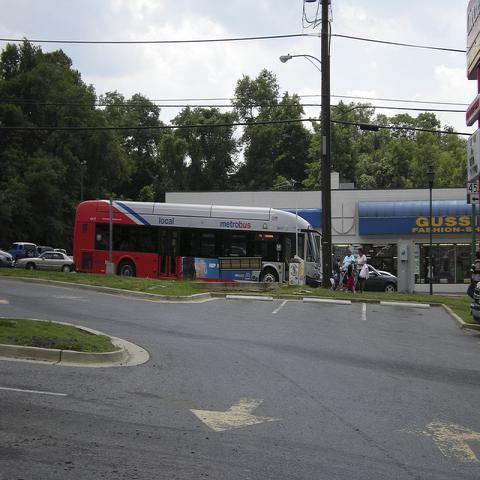bus: (71, 200, 322, 287)
car: (16, 251, 75, 272), (364, 264, 398, 294), (8, 243, 38, 261), (469, 280, 479, 326), (0, 248, 17, 270), (36, 246, 54, 257)
